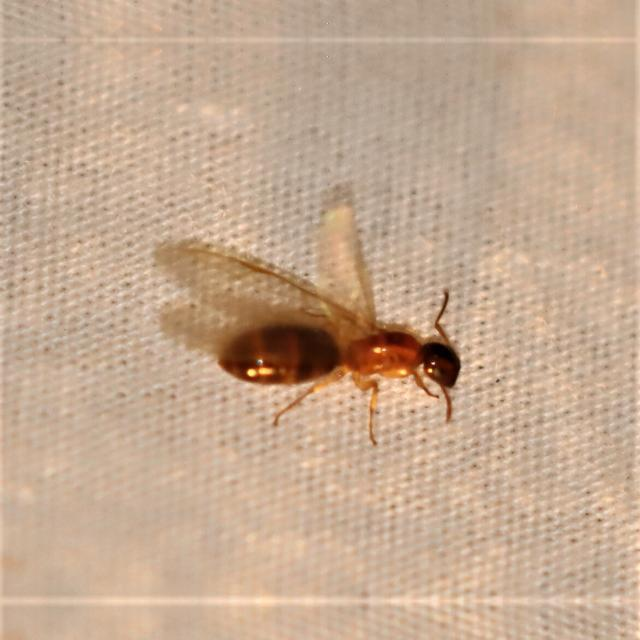Colobopsis: (216, 266, 488, 442)
